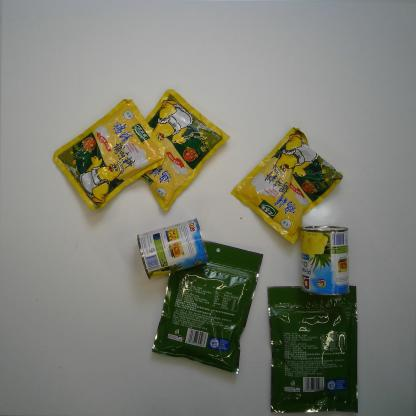Canned Food: (135, 217, 211, 281), (296, 224, 352, 298)
Dried Fruit: (150, 234, 265, 375), (267, 280, 360, 414)
Seasoner: (230, 126, 345, 243), (50, 98, 167, 210), (127, 88, 230, 212)
